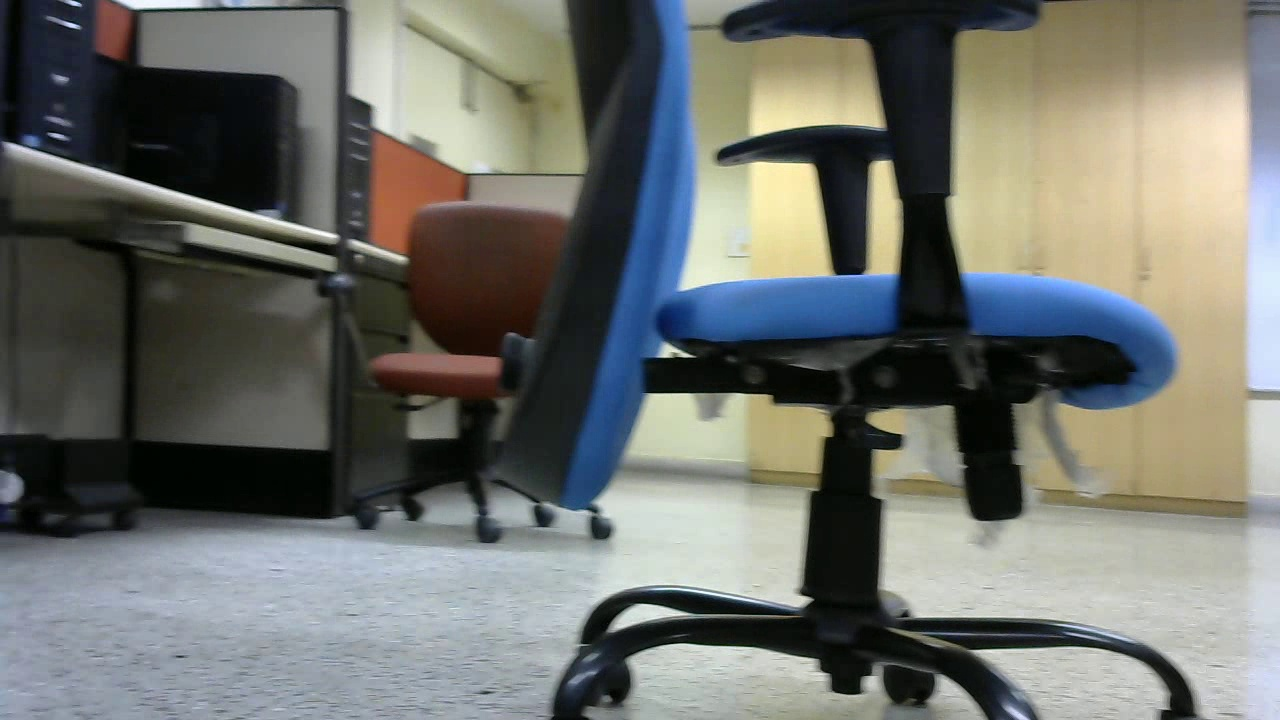chair: (487, 2, 1196, 720), (296, 201, 628, 550)
